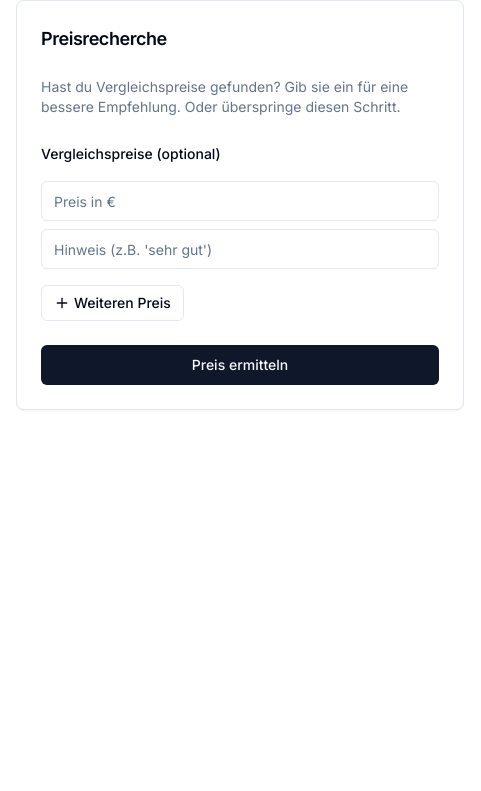
Test: PricingView › without pricing data › limits to 5 manual prices
Click the button "Weiteren Preis" at (112, 303), box [41,285,184,321]
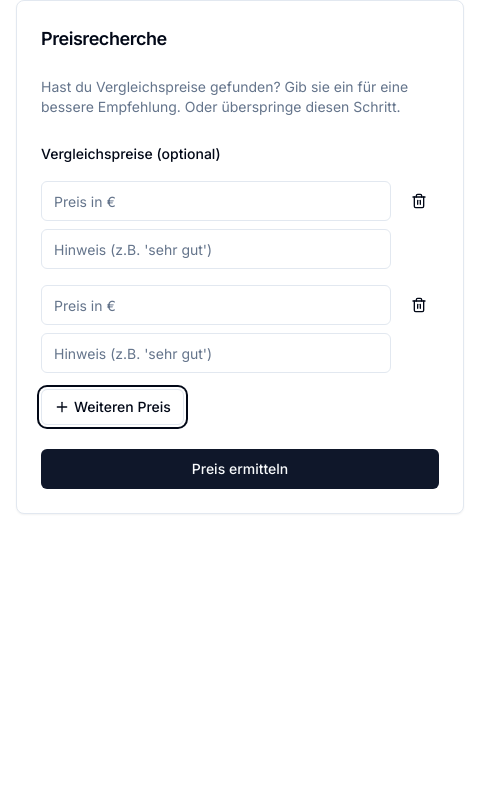
Click the button "Weiteren Preis" at (112, 407), box [41,389,184,425]
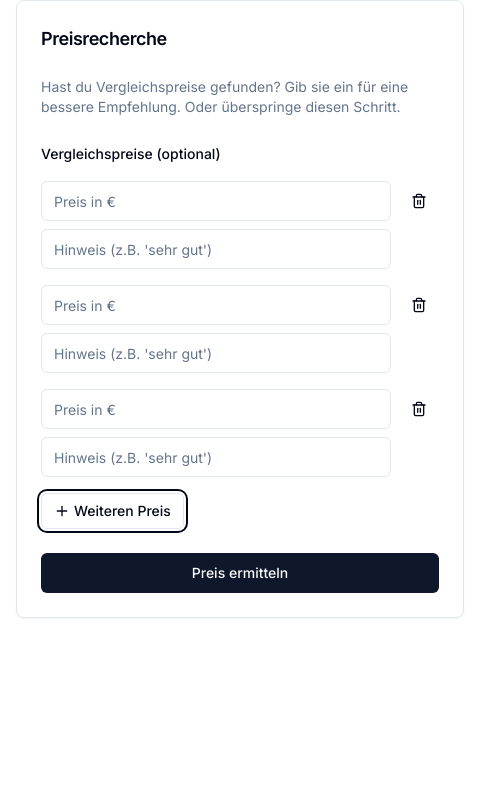
Click the button "Weiteren Preis" at (112, 511), box [41,493,184,529]
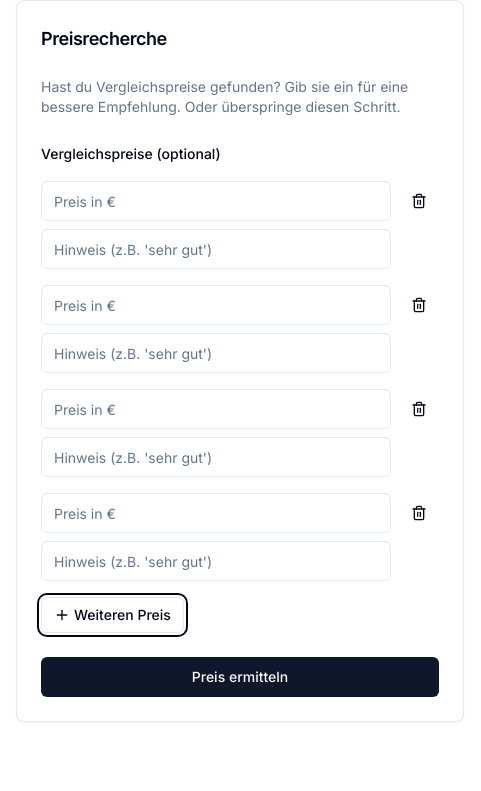
Click the button "Weiteren Preis" at (112, 615), box [41,597,184,633]
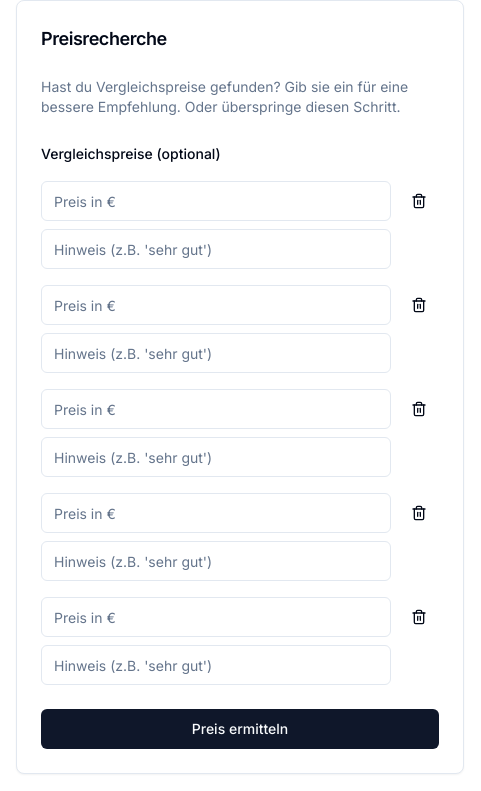
Expected: the button "Weiteren Preis" is gone
